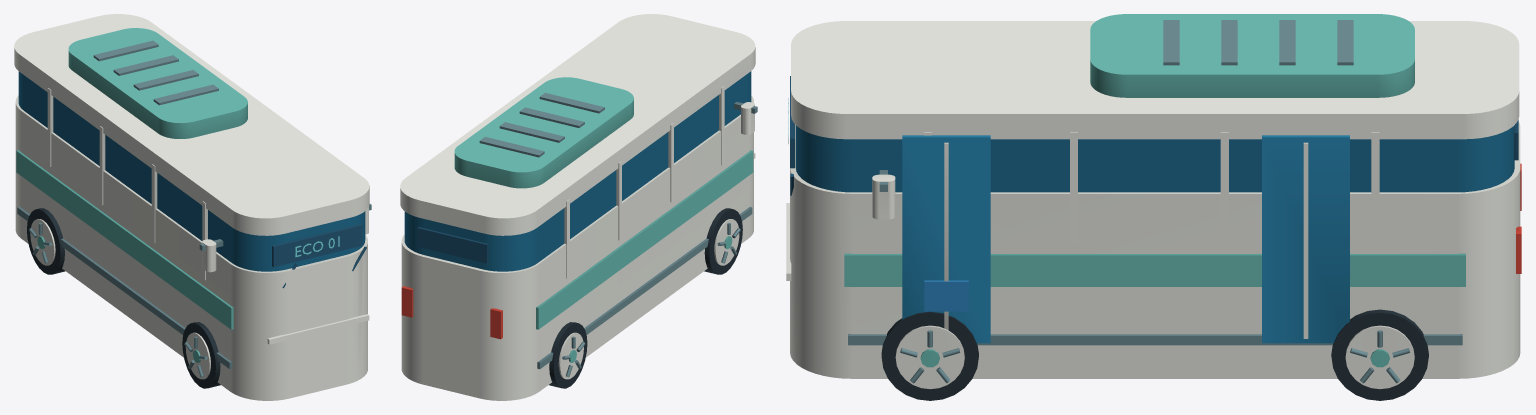
The model's file is city-bus.glb.
3 renders of one model, left to right at view 1: azimuth 30°, elevation 25°; view 2: azimuth 150°, elevation 25°; view 3: azimuth 270°, elevation 25°, orthographic. The views are drawn at different scales.
Visible parts, largest first — view 1: low floor electric bus, battery enclosure, bus panorama windows, aero spoke, electric tire, route display; view 2: low floor electric bus, battery enclosure, bus panorama windows, aero spoke, electric tire, route display, bus rear lights; view 3: low floor electric bus, bus panorama windows, battery enclosure, aero spoke, electric tire, accessible bus badge.
Part boxes in pixels (x1,y1,x2,y2): low floor electric bus: (14, 14, 369, 400); battery enclosure: (16, 28, 247, 362); bus panorama windows: (18, 71, 365, 271); aero spoke: (17, 40, 371, 377); electric tire: (27, 208, 220, 388); route display: (272, 224, 366, 288); low floor electric bus: (400, 14, 755, 400); battery enclosure: (454, 77, 753, 362); bus panorama windows: (404, 71, 751, 271); aero spoke: (479, 92, 757, 377); electric tire: (549, 208, 742, 388); route display: (417, 227, 488, 263); bus rear lights: (401, 286, 502, 339); low floor electric bus: (786, 21, 1520, 389); bus panorama windows: (795, 125, 1514, 343); battery enclosure: (844, 14, 1465, 367); aero spoke: (848, 20, 1462, 383); electric tire: (881, 309, 1428, 400); accessible bus badge: (924, 280, 968, 311).
Bounding box in the file's own units: 1.22 × 1.48 × 3.17.
